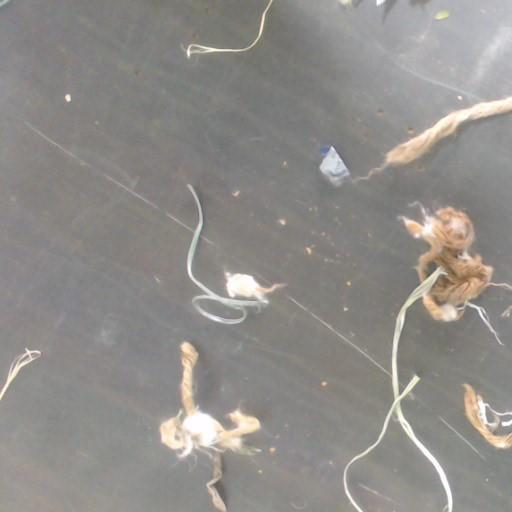conveyor belt: (399, 289, 511, 511), (351, 422, 444, 511)
jute: (161, 342, 260, 511), (362, 96, 511, 178), (400, 206, 492, 321), (462, 383, 511, 447)
packet: (319, 145, 349, 185)
thread: (344, 267, 452, 511), (186, 184, 266, 324), (186, 0, 273, 57), (0, 349, 40, 401), (468, 303, 502, 345)
